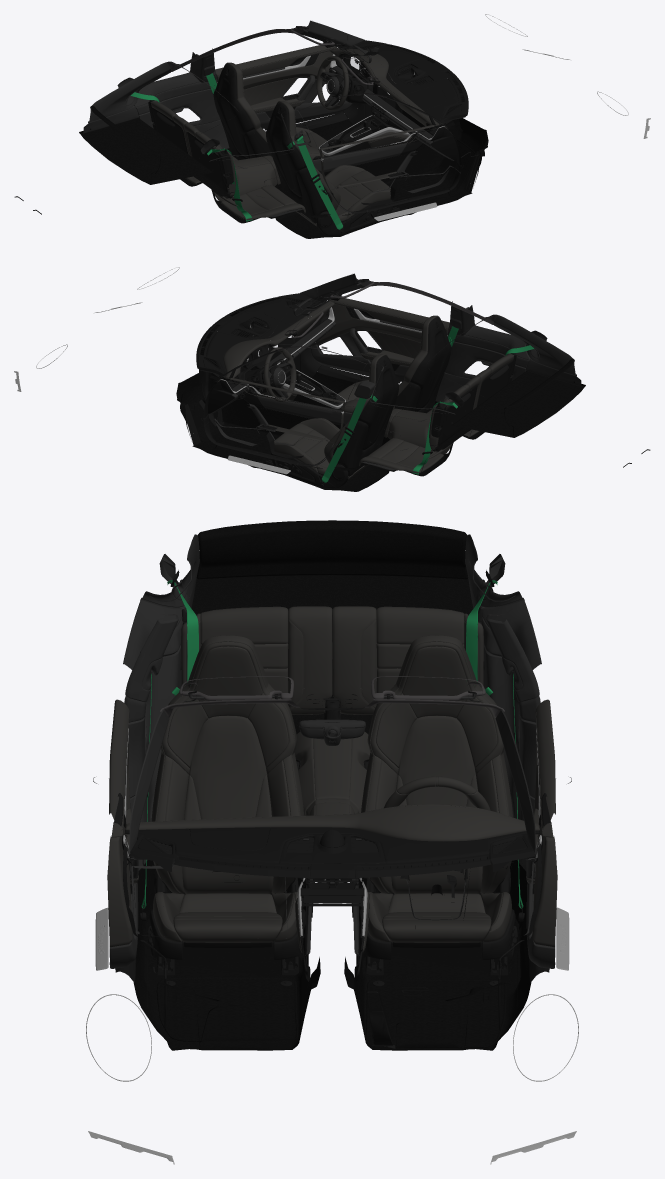
The model's file is porsche-interior.glb.
3 renders of one model, top to bottom at view 1: azimuth 30°, elevation 25°; view 2: azimuth 150°, elevation 25°; view 3: azimuth 270°, elevation 25°, orthographic. The views are drawn at different scales.
Parts seen in each view (by area): view 1: plastic_all, rugs_all, leather_all, plast_leather_all, leather_door_2, chrome_int, leath_plast_door_2, belts_all, upholstery_all, carbon_all, leather_door_1, leathplast_door_1 (+2 smaller); view 2: plastic_all, rugs_all, leather_all, plast_leather_all, leather_door_1, leathplast_door_1, belts_all, chrome_int, upholstery_all, carbon_all, leather_door_2, leath_plast_door_2 (+2 smaller); view 3: leather_all, rugs_all, plastic_all, plast_leather_all, leather_door_2, leather_door_1, chrome_int, upholstery_all, belts_all, leath_plast_door_2, leathplast_door_1.
Part boxes in pixels (x1,y1,x2,y2): plastic_all: [14, 40, 479, 235]; rugs_all: [79, 102, 488, 238]; leather_all: [151, 48, 439, 226]; plast_leather_all: [83, 20, 454, 217]; leather_door_2: [215, 45, 336, 113]; chrome_int: [319, 14, 650, 221]; leath_plast_door_2: [256, 75, 352, 130]; belts_all: [130, 73, 342, 229]; upholstery_all: [167, 24, 395, 110]; carbon_all: [320, 65, 432, 152]; leather_door_1: [319, 123, 452, 192]; leathplast_door_1: [330, 150, 460, 212]; plastic_all: [185, 293, 650, 488]; rugs_all: [176, 347, 585, 491]; leather_all: [223, 301, 513, 479]; plast_leather_all: [210, 273, 581, 470]; leather_door_1: [311, 298, 449, 366]; leathplast_door_1: [310, 328, 408, 383]; belts_all: [322, 326, 534, 482]; chrome_int: [14, 267, 345, 474]; upholstery_all: [269, 276, 497, 363]; carbon_all: [232, 319, 344, 405]; leather_door_2: [212, 376, 345, 445]; leath_plast_door_2: [204, 403, 334, 465]; leather_all: [125, 606, 539, 955]; rugs_all: [133, 520, 531, 1050]; plastic_all: [115, 570, 549, 1048]; plast_leather_all: [123, 534, 541, 965]; leather_door_2: [526, 699, 557, 947]; leather_door_1: [107, 699, 138, 947]; chrome_int: [86, 835, 578, 1164]; upholstery_all: [152, 609, 512, 717]; belts_all: [141, 580, 523, 908]; leath_plast_door_2: [526, 807, 555, 968]; leathplast_door_1: [109, 807, 138, 968].
Size of the model in its own units: 4.4 by 1.09 by 1.61.
12 materials, 3 textured.
